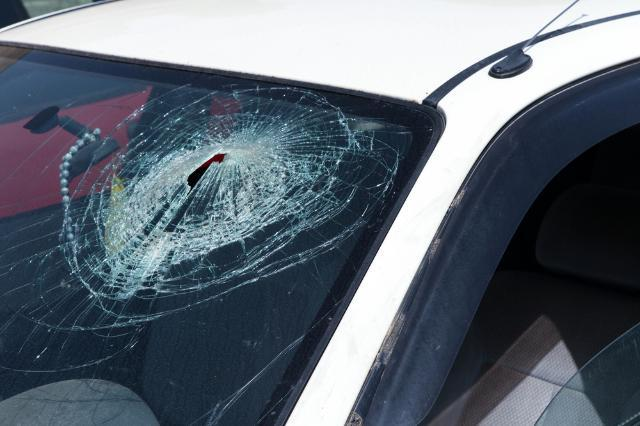glass shatter: (0, 44, 435, 426)
